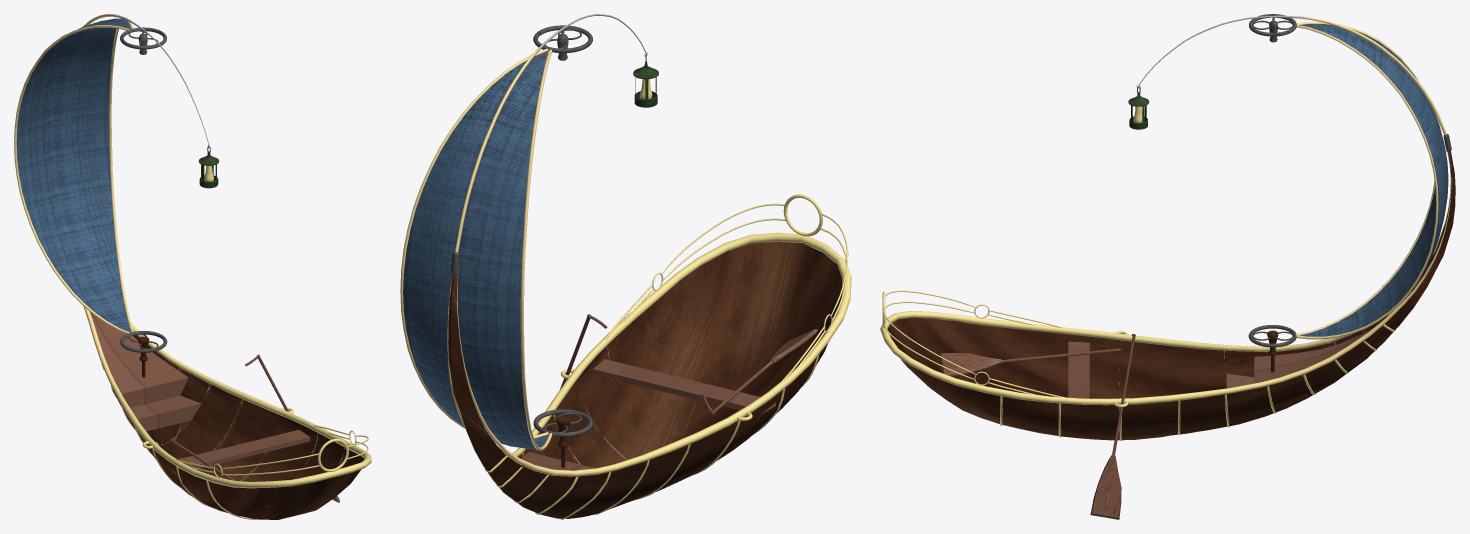
The model's file is LanchaCandil.obj.
3 views of the same model, side by side, from view 1: azimuth 30°, elevation 25°; view 2: azimuth 150°, elevation 25°; view 3: azimuth 270°, elevation 25° (orthographic). The views are drawn at different scales.
Parts seen in each view (by area): view 1: pSphere2, pSphere3, pPlane1, pTorus16, pCube1, pCylinder3, pCylinder1, pCylinder6, pTorus11; view 2: pSphere3, pSphere2, pTorus16, pCube1, pCylinder3, pCylinder1, pTorus11, pCylinder61, pCylinder6, pPlane1, pTorus8, pTorus1; view 3: pSphere3, pSphere2, pTorus16, pPlane1, pCylinder60, pCylinder61, pCylinder1, pCube1, pTorus11, pCylinder3.
Boxes of the visible parts, bbox=[...] form: pSphere2: bbox=[16, 18, 130, 332]; pSphere3: bbox=[90, 312, 364, 519]; pPlane1: bbox=[91, 313, 201, 431]; pTorus16: bbox=[83, 306, 371, 488]; pCube1: bbox=[167, 430, 310, 474]; pCylinder3: bbox=[14, 25, 129, 333]; pCylinder1: bbox=[109, 17, 133, 332]; pCylinder6: bbox=[198, 152, 219, 188]; pTorus11: bbox=[83, 14, 209, 144]; pSphere3: bbox=[448, 241, 841, 518]; pSphere2: bbox=[403, 51, 548, 448]; pTorus16: bbox=[447, 232, 851, 476]; pCube1: bbox=[592, 359, 775, 414]; pCylinder3: bbox=[520, 49, 552, 450]; pCylinder1: bbox=[400, 48, 548, 438]; pTorus11: bbox=[455, 14, 646, 252]; pCylinder61: bbox=[702, 329, 817, 414]; pCylinder6: bbox=[633, 61, 658, 107]; pPlane1: bbox=[521, 452, 594, 476]; pTorus8: bbox=[533, 409, 592, 437]; pTorus1: bbox=[533, 25, 592, 53]; pSphere3: bbox=[887, 151, 1455, 440]; pSphere2: bbox=[1299, 24, 1448, 336]; pTorus16: bbox=[880, 149, 1451, 405]; pPlane1: bbox=[1226, 330, 1370, 388]; pCylinder60: bbox=[1090, 334, 1135, 519]; pCylinder61: bbox=[939, 339, 1123, 376]; pCylinder1: bbox=[1296, 25, 1438, 339]; pCube1: bbox=[1068, 341, 1089, 398]; pTorus11: bbox=[1139, 15, 1446, 134]; pCylinder3: bbox=[1296, 22, 1434, 335].
Bounding box in the file's own units: 6.8 × 15.54 × 18.01.
